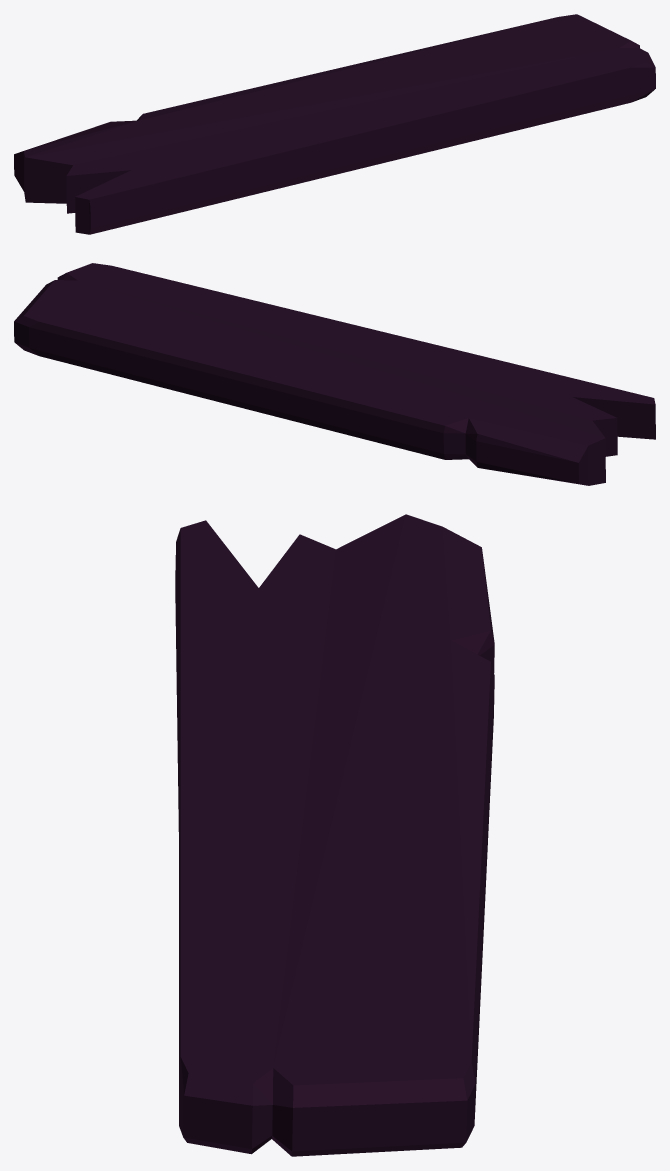
The model's file is prop_wood_broken1.FBX.
3 views of the same model, one above another, from view 1: azimuth 30°, elevation 25°; view 2: azimuth 150°, elevation 25°; view 3: azimuth 270°, elevation 25° (orthographic). The views are drawn at different scales.
Visible parts, largest first — view 1: WoodBroke2; view 2: WoodBroke2; view 3: WoodBroke2.
Boxes of the visible parts, x1,y1,x2,y2 form: WoodBroke2: (14, 14, 655, 234); WoodBroke2: (14, 263, 655, 485); WoodBroke2: (175, 514, 494, 1156).
Bounding box in the file's own units: 2.29 × 0.1674 × 0.5392.
